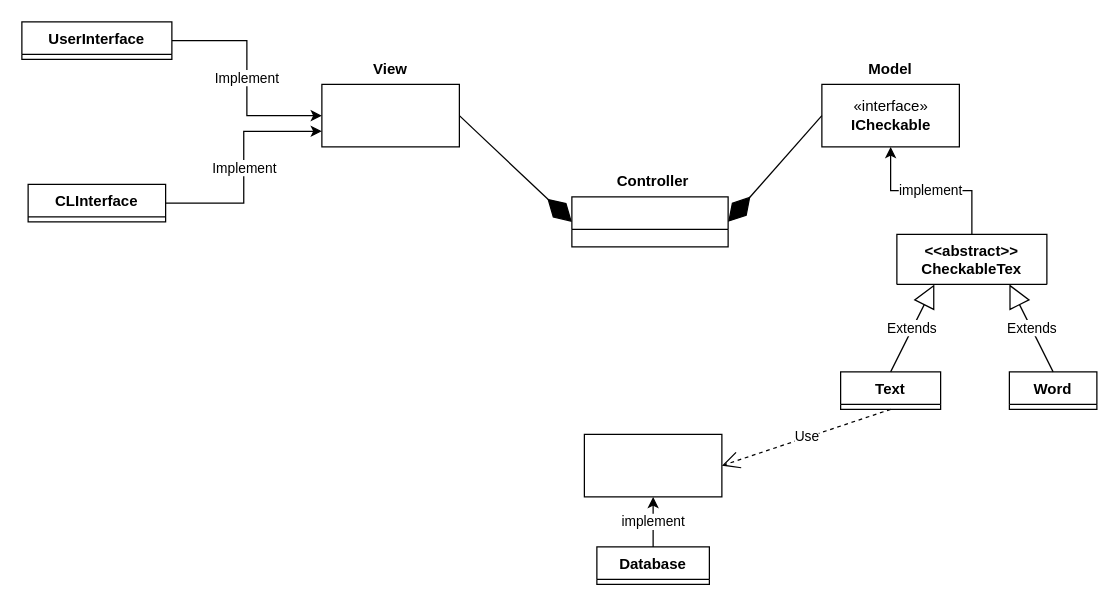
The diagram is 1119 pixels wide and 606 high, and some of its shapes have lost their labels. The centre of each missing label's shape, as x and y in pixels:
Launcher: the point at 649,221
«interface» IDatabase: the point at 652,465
«interface» IViewInterface: the point at 390,115
